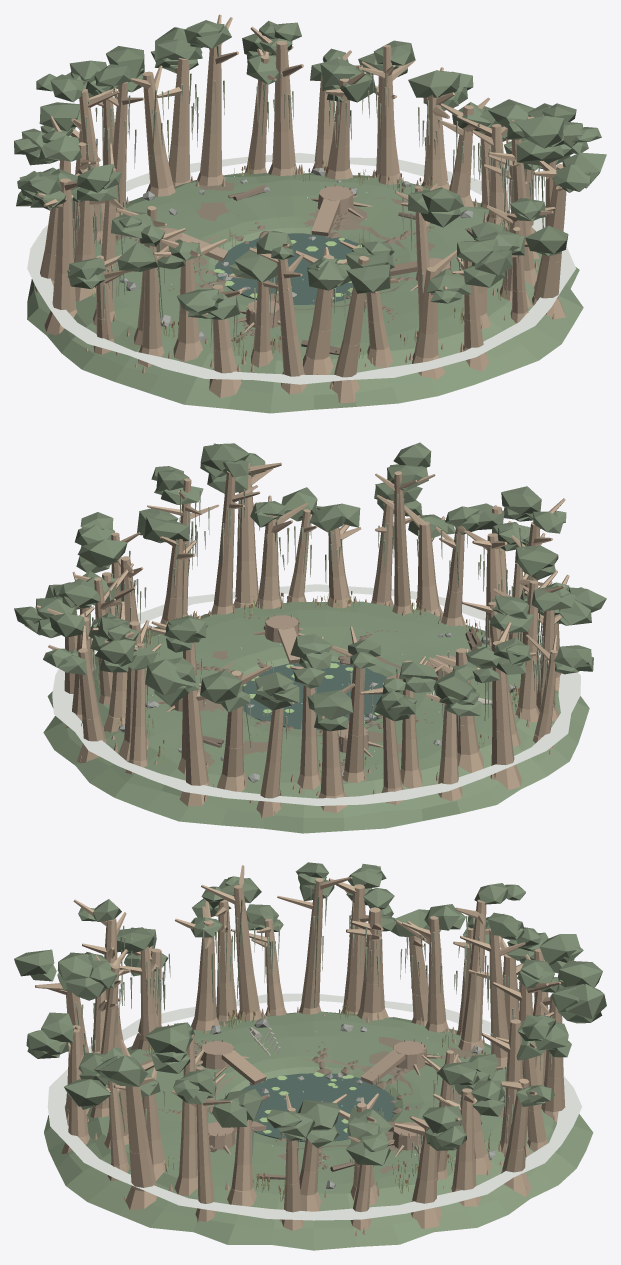
File: arena_gnashroot.glb
3 views of the same model, one above another, from view 1: azimuth 30°, elevation 25°; view 2: azimuth 150°, elevation 25°; view 3: azimuth 270°, elevation 25° (orthographic). The views are drawn at different scales.
Parts seen in each view (by area): view 1: GnashrootArena_Grove, GnashrootArena_Base, GnashrootArena_DecoCanopy, GnashrootArena_Foam, GnashrootArena_DecoMoss, GnashrootArena_DecoMere, GnashrootArena_Stump1, GnashrootArena_DecoPatches, GnashrootArena_DecoRoots, GnashrootArena_DecoReeds, GnashrootArena_DecoStones, GnashrootArena_DecoVines (+2 smaller); view 2: GnashrootArena_Grove, GnashrootArena_DecoCanopy, GnashrootArena_Base, GnashrootArena_Foam, GnashrootArena_DecoMoss, GnashrootArena_DecoMere, GnashrootArena_Stump4, GnashrootArena_DecoPatches, GnashrootArena_DecoReeds, GnashrootArena_DecoVines, GnashrootArena_DecoRoots, GnashrootArena_DecoStones; view 3: GnashrootArena_Grove, GnashrootArena_Base, GnashrootArena_DecoCanopy, GnashrootArena_Foam, GnashrootArena_DecoMoss, GnashrootArena_DecoMere, GnashrootArena_Stump2, GnashrootArena_Stump3, GnashrootArena_DecoRoots, GnashrootArena_DecoPatches, GnashrootArena_DecoReeds, GnashrootArena_DecoVines (+3 smaller).
Boxes of the visible parts, x1,y1,x2,y2 form: GnashrootArena_Grove: [35, 14, 566, 403]; GnashrootArena_Base: [27, 172, 583, 413]; GnashrootArena_DecoCanopy: [14, 20, 606, 319]; GnashrootArena_Foam: [27, 153, 575, 384]; GnashrootArena_DecoMoss: [71, 45, 544, 347]; GnashrootArena_DecoMere: [215, 233, 361, 304]; GnashrootArena_Stump1: [310, 184, 373, 236]; GnashrootArena_DecoPatches: [115, 182, 435, 354]; GnashrootArena_DecoRoots: [125, 207, 433, 342]; GnashrootArena_DecoReeds: [92, 161, 507, 361]; GnashrootArena_DecoStones: [120, 167, 472, 341]; GnashrootArena_DecoVines: [107, 46, 543, 338]; GnashrootArena_Grove: [35, 462, 569, 818]; GnashrootArena_DecoCanopy: [14, 442, 606, 731]; GnashrootArena_Base: [43, 601, 589, 833]; GnashrootArena_Foam: [52, 584, 580, 805]; GnashrootArena_DecoMoss: [84, 489, 554, 743]; GnashrootArena_DecoMere: [242, 661, 396, 729]; GnashrootArena_Stump4: [252, 614, 304, 663]; GnashrootArena_DecoPatches: [145, 651, 425, 780]; GnashrootArena_DecoReeds: [97, 593, 519, 774]; GnashrootArena_DecoVines: [81, 517, 543, 747]; GnashrootArena_DecoRoots: [168, 614, 433, 765]; GnashrootArena_DecoStones: [118, 632, 514, 782]; GnashrootArena_Grove: [35, 865, 565, 1236]; GnashrootArena_Base: [44, 1011, 593, 1250]; GnashrootArena_DecoCanopy: [14, 862, 606, 1165]; GnashrootArena_Foam: [47, 993, 582, 1220]; GnashrootArena_DecoMoss: [71, 885, 552, 1174]; GnashrootArena_DecoMere: [241, 1073, 395, 1142]; GnashrootArena_Stump2: [360, 1039, 440, 1084]; GnashrootArena_Stump3: [195, 1039, 266, 1084]; GnashrootArena_DecoRoots: [157, 1040, 467, 1169]; GnashrootArena_DecoPatches: [143, 1022, 503, 1181]; GnashrootArena_DecoReeds: [146, 1004, 490, 1202]; GnashrootArena_DecoVines: [76, 896, 526, 1157].
Size of the model in its own units: 189 by 67.17 by 192.
